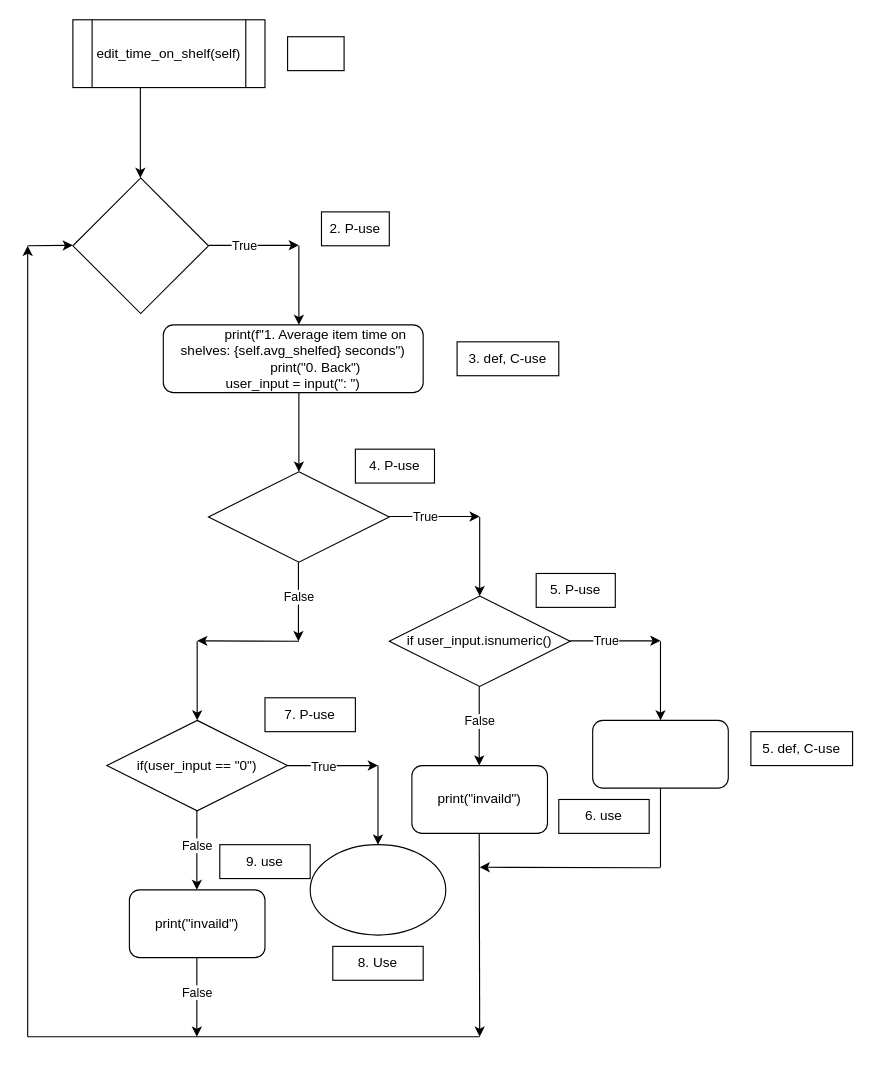
The diagram is 872 pixels wide and 1066 high, and some of its shapes have lost their labels. The shapes that lost their labels are listed below. From the top down, each one's centre as x and y in pixels, then its label:
[315,53]: 1. Def
[140,245]: while true
[298,516]: if(user_input == "1")
[660,753]: self.avg_shelfed = int(user_input)
[377,889]: return
